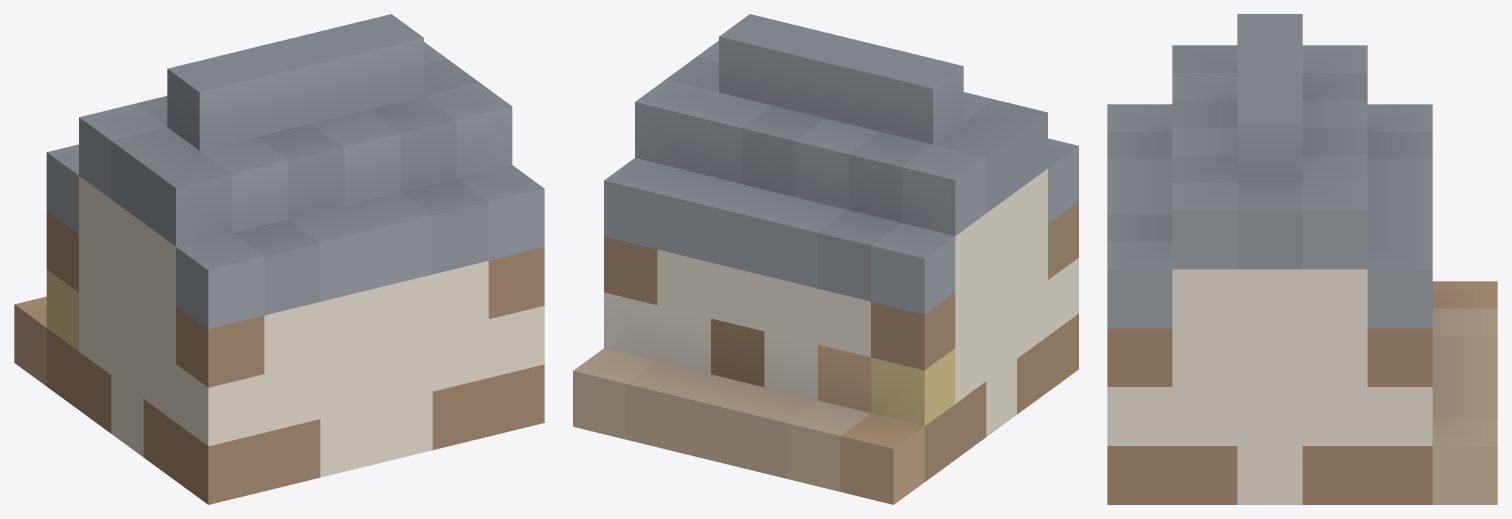
The model's file is house_patricians.lite.glb.
3 views of the same model, side by side, from view 1: azimuth 30°, elevation 25°; view 2: azimuth 150°, elevation 25°; view 3: azimuth 270°, elevation 25° (orthographic). The views are drawn at different scales.
Visible parts, largest first — view 1: house_patricians; view 2: house_patricians; view 3: house_patricians.
Part boxes in pixels (x1,y1,x2,y2): house_patricians: (14, 14, 544, 504); house_patricians: (573, 14, 1078, 504); house_patricians: (1107, 14, 1497, 504).
Bounding box in the file's own units: 3 × 3 × 3.
